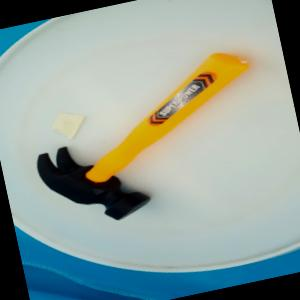martelo: (18, 44, 275, 236)
